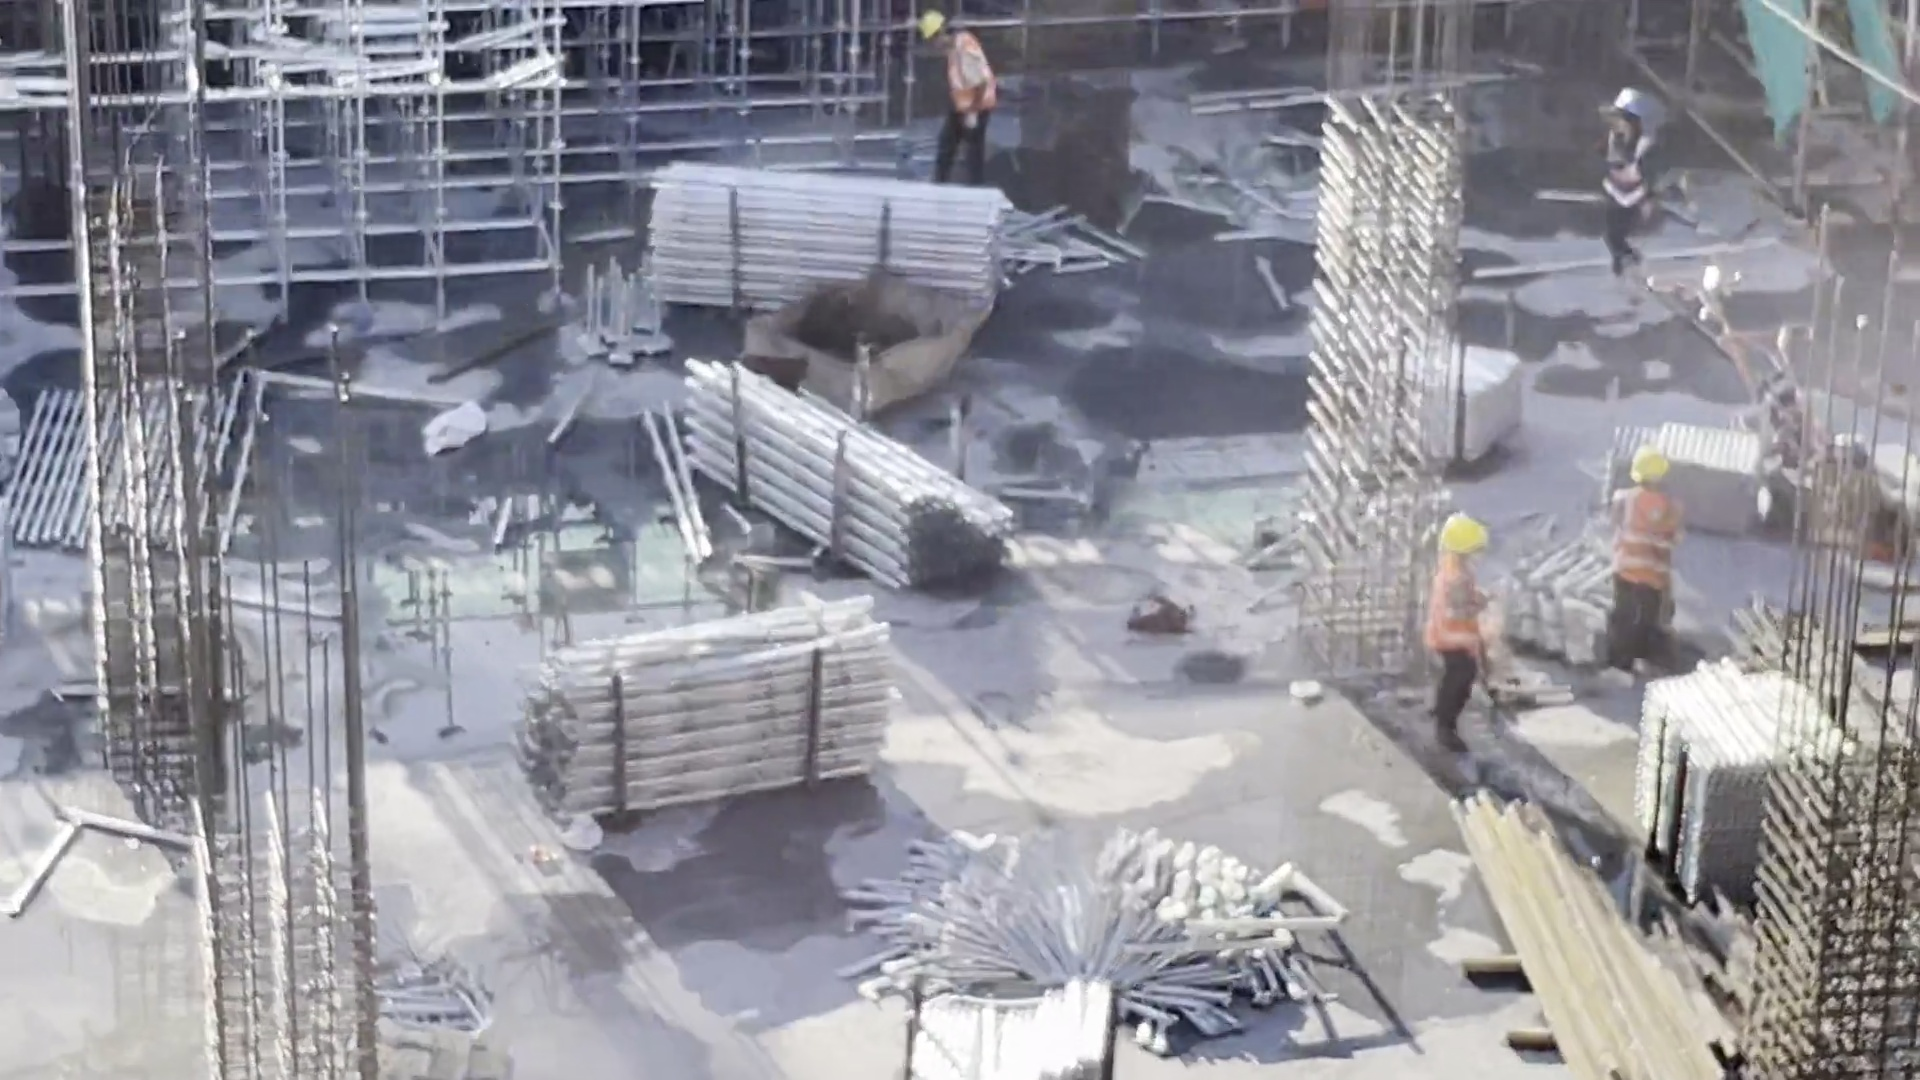helmet: (1444, 511, 1492, 556), (1634, 446, 1673, 486), (915, 1, 958, 37), (1618, 85, 1652, 122)
person: (1611, 449, 1689, 687), (919, 9, 999, 190), (1596, 83, 1658, 289), (1437, 516, 1486, 767)
vest: (1611, 482, 1689, 595), (1432, 563, 1501, 675), (949, 34, 1008, 119), (1612, 127, 1654, 216)
